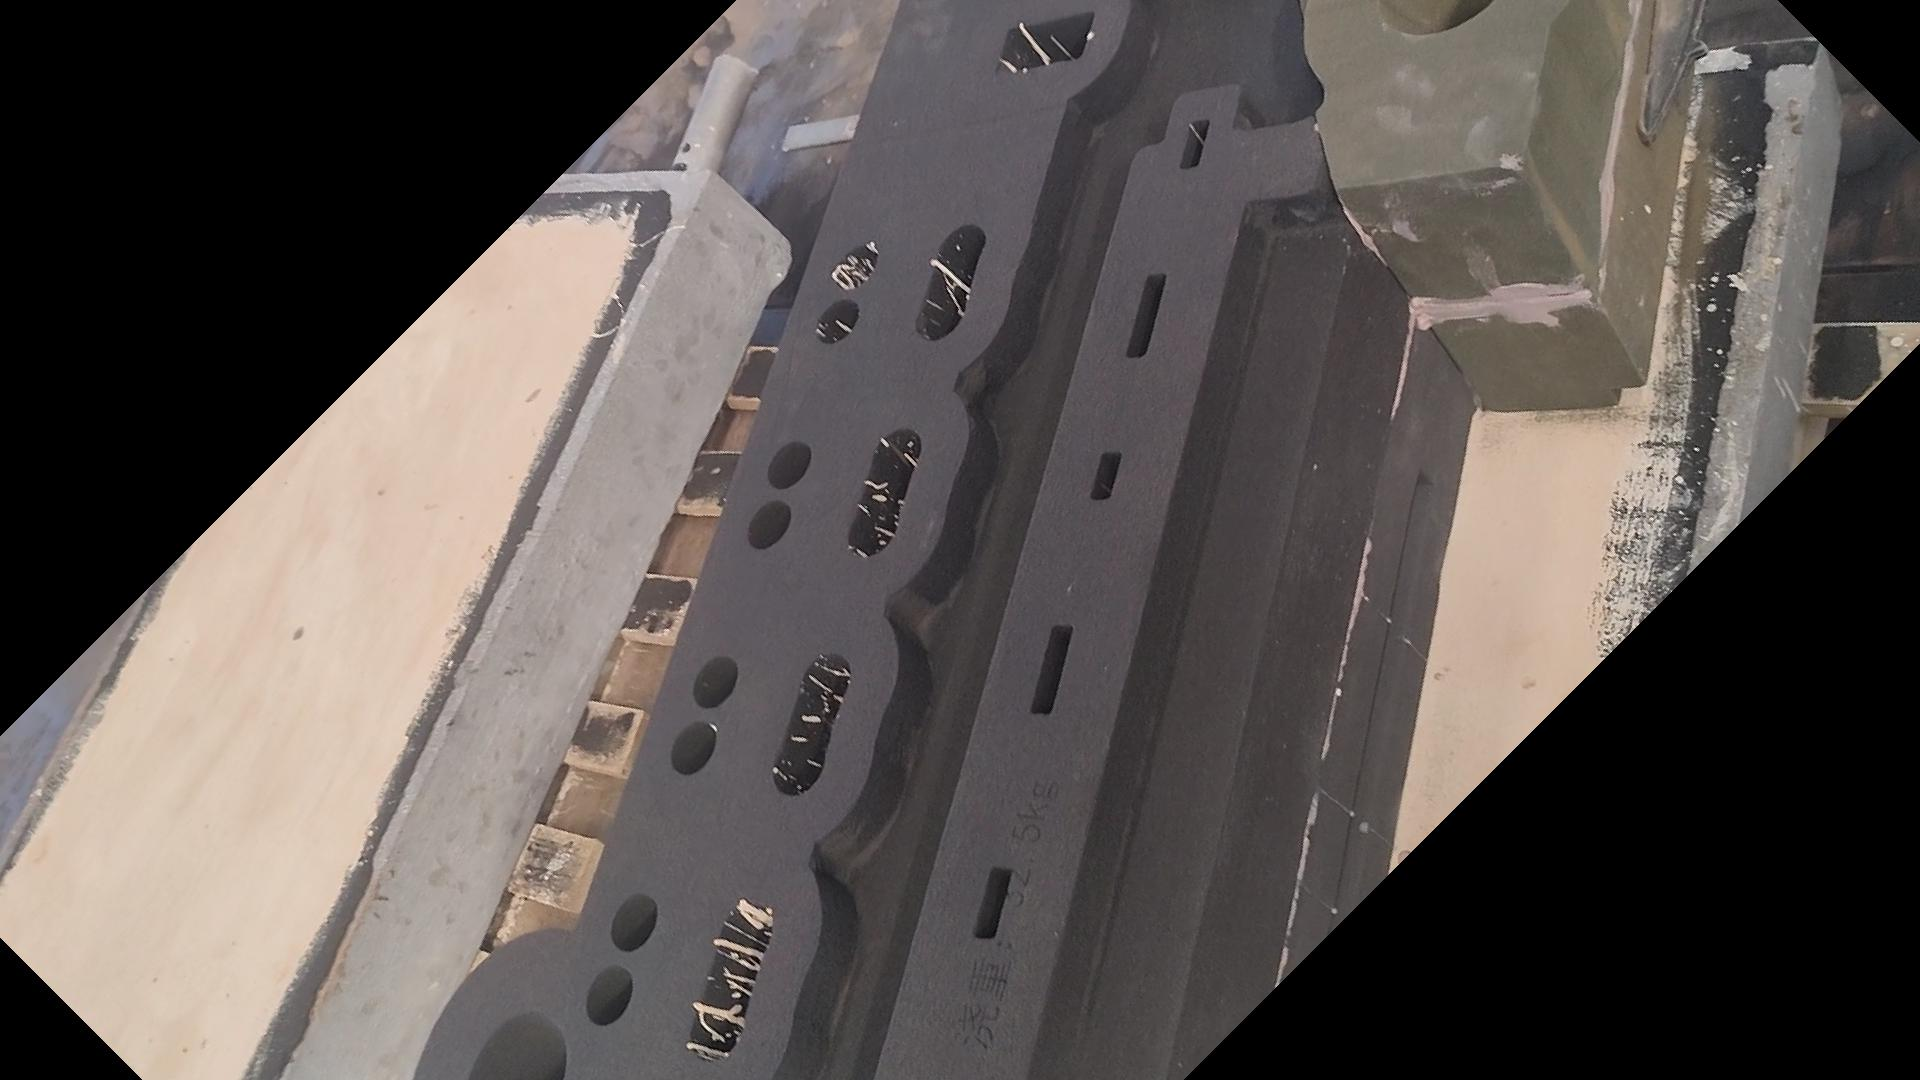pouring hole: (464, 1011, 568, 1080), (1370, 1, 1494, 34)
